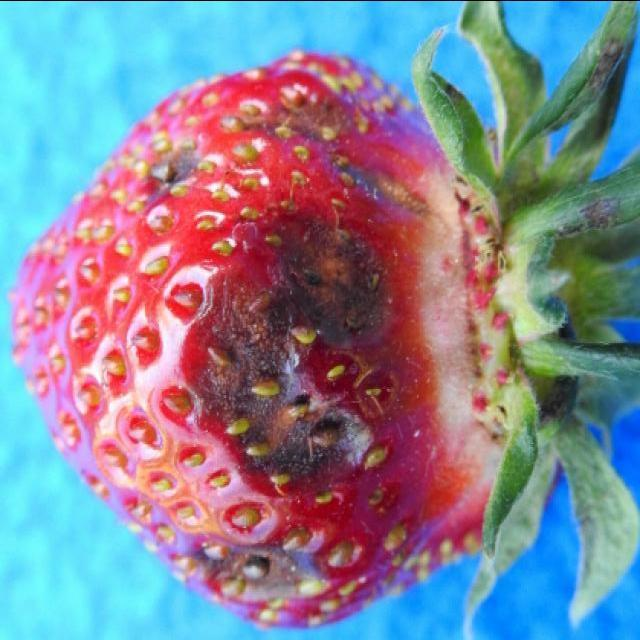Anthracnose Fruit Rot: (12, 48, 530, 628)
